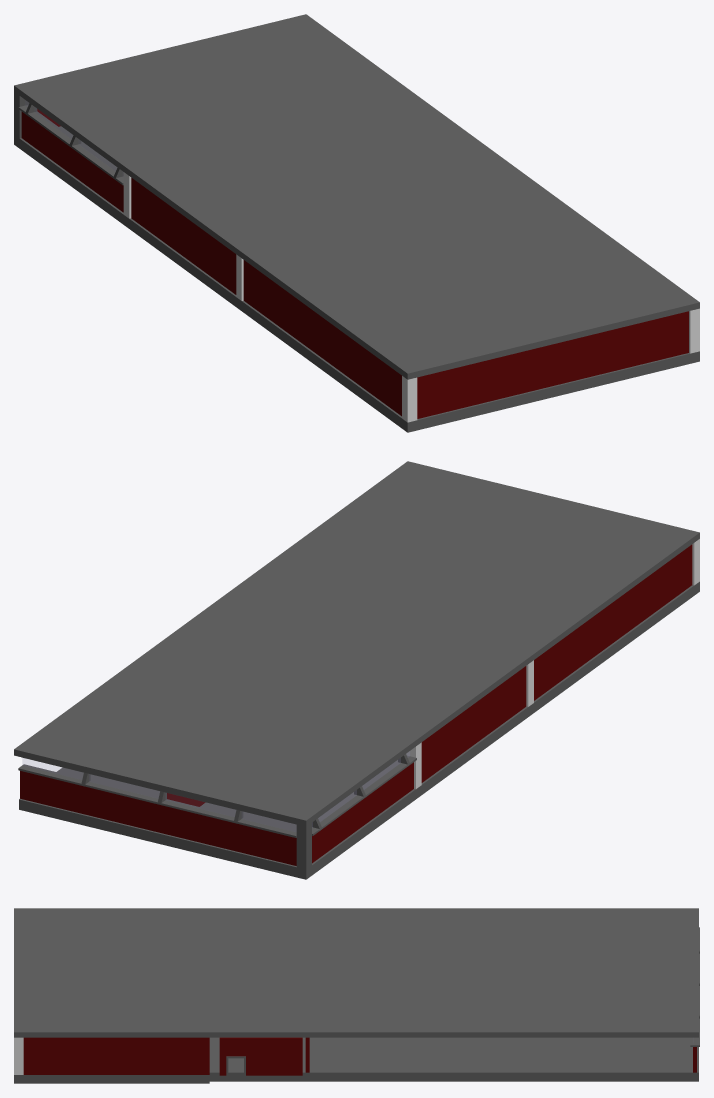
3 views of the same model, one above another, from view 1: azimuth 30°, elevation 25°; view 2: azimuth 150°, elevation 25°; view 3: azimuth 270°, elevation 25° (orthographic). The views are drawn at different scales.
Visible parts, largest first — view 1: Крыща, Стена_л_3, RM, Стена_л_1, Стена_л, Стена__1, Рамка__2, Балка_4_2м__1_Инстанция_5; view 2: Крыща, RM, Стена_, Стена_л_1, Стена_л, Стена__1, Рамка_, Стекло, Рамка__2, Балка_4_2м__1; view 3: Крыща, RM, Стена_л_2, Взод_на_склад, Балка_4_2м__1_Инстанция_4.
Part boxes in pixels (x1,y1,x2,y2): Крыща: (14,14,699,379); Стена_л_3: (417,311,688,418); RM: (14,126,699,432); Стена_л_1: (243,260,401,416); Стена_л: (131,178,236,294); Стена__1: (21,112,123,212); Рамка__2: (18,103,123,185); Балка_4_2м__1_Инстанция_5: (402,376,417,422); Крыща: (14,461,699,826); RM: (19,581,699,879); Стена_: (20,771,296,865); Стена_л_1: (534,544,692,700); Стена_л: (421,666,526,782); Стена__1: (312,762,413,863); Рамка_: (18,757,296,837); Стекло: (23,758,295,831); Рамка__2: (312,754,416,835); Балка_4_2м__1: (296,823,311,869); Крыща: (14,908,698,1037); RM: (14,1037,698,1083); Стена_л_2: (23,1037,209,1074); Взод_на_склад: (219,1037,302,1075); Балка_4_2м__1_Инстанция_4: (14,1037,23,1074).
Bounding box in the file's own units: 3040 × 580 × 7010.
